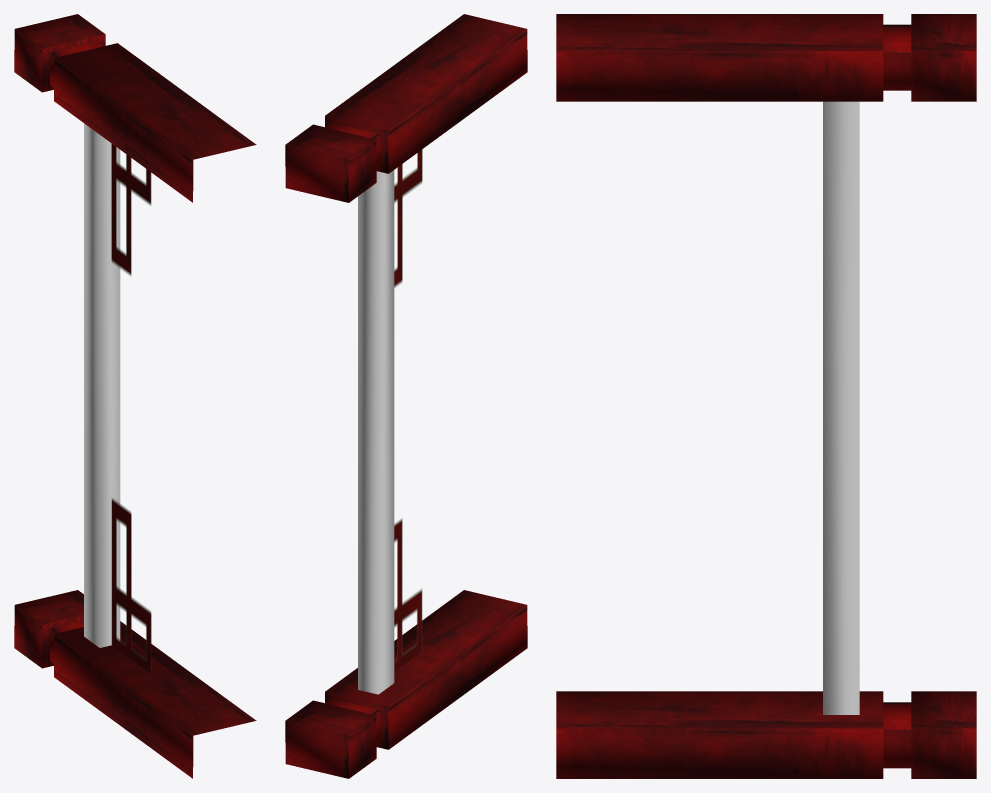
Rendered from limit_LOD35.glb.
The picture shows the model from 3 angles, left to right: view 1: azimuth 30°, elevation 25°; view 2: azimuth 150°, elevation 25°; view 3: azimuth 270°, elevation 25°; orthographic projection. The views are drawn at different scales.
Visible parts, largest first — view 1: JapanwoodBridge.jpg__, stktex_generic_WoodA.png__, detailJapan.png__; view 2: JapanwoodBridge.jpg__, stktex_generic_WoodA.png__, detailJapan.png__; view 3: JapanwoodBridge.jpg__, stktex_generic_WoodA.png__.
Boxes of the visible parts, x1,y1,x2,y2 form: JapanwoodBridge.jpg__: (14, 14, 256, 778); stktex_generic_WoodA.png__: (84, 123, 120, 647); detailJapan.png__: (111, 143, 151, 673); JapanwoodBridge.jpg__: (285, 14, 527, 778); stktex_generic_WoodA.png__: (358, 170, 394, 694); detailJapan.png__: (394, 149, 422, 671); JapanwoodBridge.jpg__: (556, 14, 976, 778); stktex_generic_WoodA.png__: (823, 101, 859, 714).
Bounding box in the file's own units: 0.4621 × 4.3 × 2.25.
Materials: 3 (2 with a texture image).
